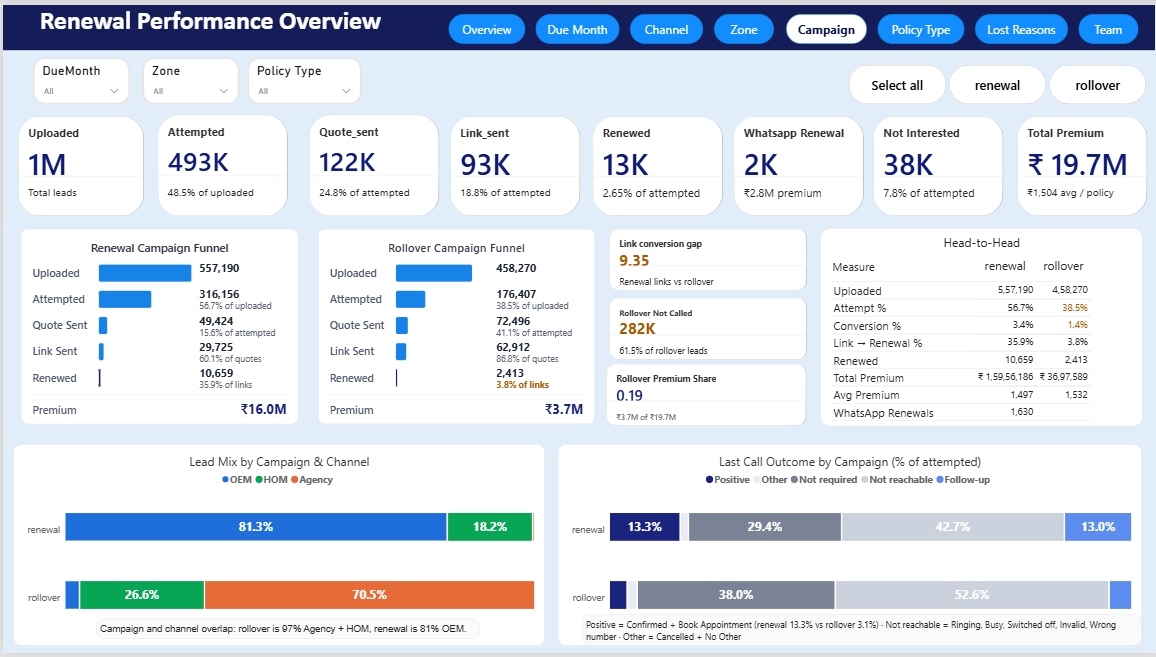

Layout of this report page (visuals, bound fields, positions):
{"tool":"powerbi","page":{"name":"Campaign","canvas":[1926,1080],"ordinal":4},"visuals":[{"type":"textbox","box":[0,0,1920,75],"z":0},{"type":"pivotTable","title":"Head-to-Head","fields":{"Columns":["RAW DATA(JAN-SEPT).campignname"],"Values":["RAW DATA(JAN-SEPT).Uploaded","RAW DATA(JAN-SEPT).Attempt %","RAW DATA(JAN-SEPT).Conversion % (Matrix)","RAW DATA(JAN-SEPT).Link to Renewal %","RAW DATA(JAN-SEPT).Renewed","RAW DATA(JAN-SEPT).Total Premium","RAW DATA(JAN-SEPT).Avg Premium","RAW DATA(JAN-SEPT).WhatsApp Renewals"]},"box":[1362.5,372.5,536.6,329],"z":0,"group":"g4"},{"type":"shape","box":[742.5,13.7,128,50],"z":1000,"group":"g1"},{"type":"advancedSlicerVisual","fields":{"Values":["RAW DATA(JAN-SEPT).campignname"]},"box":[1410,100,497.5,65],"z":1000},{"type":"cardVisual","fields":{"Data":["CountNonNull(RAW DATA(JAN-SEPT).assigned_id)"]},"box":[24.4,184.4,210.3,167.5],"z":1000,"group":"g2"},{"type":"textbox","box":[1381.7,423.5,98.6,53.3],"z":1000,"group":"g4"},{"type":"group","id":"g1","title":"Group 1","box":[742.5,12.5,1150,52.5],"z":2000},{"type":"shape","box":[888.4,13.7,140,50],"z":2000,"group":"g1"},{"type":"cardVisual","fields":{"Data":["RAW DATA(JAN-SEPT).Attempted"]},"box":[256.4,183,217.6,170.8],"z":2000,"group":"g2"},{"type":"cardVisual","fields":{"Data":["RAW DATA(JAN-SEPT).L2R Gap"]},"box":[1009.9,372.5,330.1,104.6],"z":2000,"group":"g5"},{"type":"shape","box":[1046.2,13.7,122,50],"z":3000,"group":"g1"},{"type":"group","id":"g2","title":"Group 2","box":[24.4,183,1883.5,170.8],"z":3000},{"type":"shape","box":[1186.1,13.7,100,50],"z":4000,"group":"g1"},{"type":"group","id":"g3","title":"Group 3","box":[48.8,87.8,549,78.1],"z":4000},{"type":"slicer","fields":{"Values":["RAW DATA(JAN-SEPT).DueMonth"]},"box":[48.8,87.8,161,78.1],"z":4000,"group":"g3"},{"type":"shape","box":[1303.9,13.7,135,50],"z":5000,"group":"g1"},{"type":"slicer","fields":{"Values":["RAW DATA(JAN-SEPT).dealerzone"]},"box":[231.8,87.8,161,78.1],"z":5000,"group":"g3"},{"type":"cardVisual","fields":{"Data":["RAW DATA(JAN-SEPT).Link_sent_count"]},"box":[744.8,185,217.9,167.5],"z":5000,"group":"g2"},{"type":"pivotTable","fields":{"Columns":["RAW DATA(JAN-SEPT).campignname"],"Values":["RAW DATA(JAN-SEPT).Campaign Funnel SVG"]},"box":[0,352.5,1037.5,350],"z":5000},{"type":"shape","box":[1456.8,13.7,145,50],"z":6000,"group":"g1"},{"type":"slicer","fields":{"Values":["RAW DATA(JAN-SEPT).renewal_type"]},"box":[407.5,87.8,190.3,78.1],"z":6000,"group":"g3"},{"type":"cardVisual","fields":{"Data":["RAW DATA(JAN-SEPT).Renewed"]},"box":[983,185,217.9,167.5],"z":6000,"group":"g2"},{"type":"group","id":"g4","title":"Group 4","box":[1362.5,372.5,535,330],"z":6000},{"type":"shape","box":[1619.6,13.7,155,50],"z":7000,"group":"g1"},{"type":"cardVisual","fields":{"Data":["RAW DATA(JAN-SEPT).Rollover Not Called"]},"box":[1009.9,486.4,330.1,104.6],"z":7000,"group":"g5"},{"type":"hundredPercentStackedBarChart","title":"Lead Mix by Campaign & Channel","fields":{"Category":["RAW DATA(JAN-SEPT).campignname"],"Series":["RAW DATA(JAN-SEPT).channel"],"Y":["RAW DATA(JAN-SEPT).Uploaded"]},"box":[17.5,732.5,885,335],"z":7000},{"type":"shape","box":[1792.5,13.7,100,50],"z":8000,"group":"g1"},{"type":"cardVisual","fields":{"Data":["RAW DATA(JAN-SEPT).Rollover Premium Share"]},"box":[1005,597.9,335,104.6],"z":8000,"group":"g5"},{"type":"textbox","box":[155,1022.5,639.2,34.2],"z":8000},{"type":"hundredPercentStackedBarChart","title":"Last Call Outcome by Campaign (% of attempted)","fields":{"Category":["RAW DATA(JAN-SEPT).campignname"],"Series":["RAW DATA(JAN-SEPT).Outcome Group"],"Y":["RAW DATA(JAN-SEPT).Attempted"]},"box":[925,732.5,972.5,335],"z":9000},{"type":"cardVisual","fields":{"Data":["RAW DATA(JAN-SEPT).Whatsapp_renewal_count"]},"box":[1216.1,185,217.9,167.5],"z":10000,"group":"g2"},{"type":"group","id":"g5","title":"Group 5","box":[1005,372.5,335,330],"z":10000},{"type":"cardVisual","fields":{"Data":["RAW DATA(JAN-SEPT).Not Interested"]},"box":[1449.3,185,217.9,167.5],"z":11000,"group":"g2"},{"type":"textbox","box":[965,1015,932.5,52.5],"z":11500},{"type":"cardVisual","fields":{"Data":["RAW DATA(JAN-SEPT).Total Premium"]},"box":[1690,185,217.9,167.5],"z":12000,"group":"g2"},{"type":"cardVisual","fields":{"Data":["RAW DATA(JAN-SEPT).Quote_sent"]},"box":[508.6,183,217.6,170.8],"z":12009,"group":"g2"}]}

Visuals, with their boxes in screenshot pixels (x1, y1, x2, y2), scaled from the page's 1926x1080 canvas onto the 1156x657 screenshot:
textbox: (left=0, top=0, right=1152, bottom=46)
"Head-to-Head" pivotTable: (left=818, top=227, right=1140, bottom=427)
shape: (left=446, top=8, right=522, bottom=39)
advancedSlicerVisual - RAW DATA(JAN-SEPT).campignname: (left=846, top=61, right=1145, bottom=100)
cardVisual - CountNonNull(RAW DATA(JAN-SEPT).assigned_id): (left=15, top=112, right=141, bottom=214)
textbox: (left=829, top=258, right=888, bottom=290)
"Group 1" group: (left=446, top=8, right=1136, bottom=40)
shape: (left=533, top=8, right=617, bottom=39)
cardVisual - RAW DATA(JAN-SEPT).Attempted: (left=154, top=111, right=284, bottom=215)
cardVisual - RAW DATA(JAN-SEPT).L2R Gap: (left=606, top=227, right=804, bottom=290)
shape: (left=628, top=8, right=701, bottom=39)
"Group 2" group: (left=15, top=111, right=1145, bottom=215)
shape: (left=712, top=8, right=772, bottom=39)
"Group 3" group: (left=29, top=53, right=359, bottom=101)
slicer - RAW DATA(JAN-SEPT).DueMonth: (left=29, top=53, right=126, bottom=101)
shape: (left=783, top=8, right=864, bottom=39)
slicer - RAW DATA(JAN-SEPT).dealerzone: (left=139, top=53, right=236, bottom=101)
cardVisual - RAW DATA(JAN-SEPT).Link_sent_count: (left=447, top=113, right=578, bottom=214)
pivotTable - RAW DATA(JAN-SEPT).campignname x RAW DATA(JAN-SEPT).Campaign Funnel SVG: (left=0, top=214, right=623, bottom=427)
shape: (left=874, top=8, right=961, bottom=39)
slicer - RAW DATA(JAN-SEPT).renewal_type: (left=245, top=53, right=359, bottom=101)
cardVisual - RAW DATA(JAN-SEPT).Renewed: (left=590, top=113, right=721, bottom=214)
"Group 4" group: (left=818, top=227, right=1139, bottom=427)
shape: (left=972, top=8, right=1065, bottom=39)
cardVisual - RAW DATA(JAN-SEPT).Rollover Not Called: (left=606, top=296, right=804, bottom=360)
"Lead Mix by Campaign & Channel" hundredPercentStackedBarChart: (left=11, top=446, right=542, bottom=649)
shape: (left=1076, top=8, right=1136, bottom=39)
cardVisual - RAW DATA(JAN-SEPT).Rollover Premium Share: (left=603, top=364, right=804, bottom=427)
textbox: (left=93, top=622, right=477, bottom=643)
"Last Call Outcome by Campaign (% of attempted)" hundredPercentStackedBarChart: (left=555, top=446, right=1139, bottom=649)
cardVisual - RAW DATA(JAN-SEPT).Whatsapp_renewal_count: (left=730, top=113, right=861, bottom=214)
"Group 5" group: (left=603, top=227, right=804, bottom=427)
cardVisual - RAW DATA(JAN-SEPT).Not Interested: (left=870, top=113, right=1001, bottom=214)
textbox: (left=579, top=617, right=1139, bottom=649)
cardVisual - RAW DATA(JAN-SEPT).Total Premium: (left=1014, top=113, right=1145, bottom=214)
cardVisual - RAW DATA(JAN-SEPT).Quote_sent: (left=305, top=111, right=436, bottom=215)
